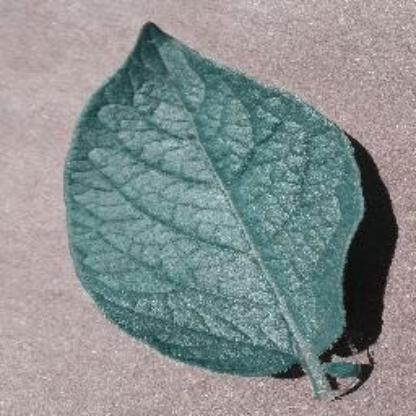Healthy-plant: (61, 16, 372, 398)
